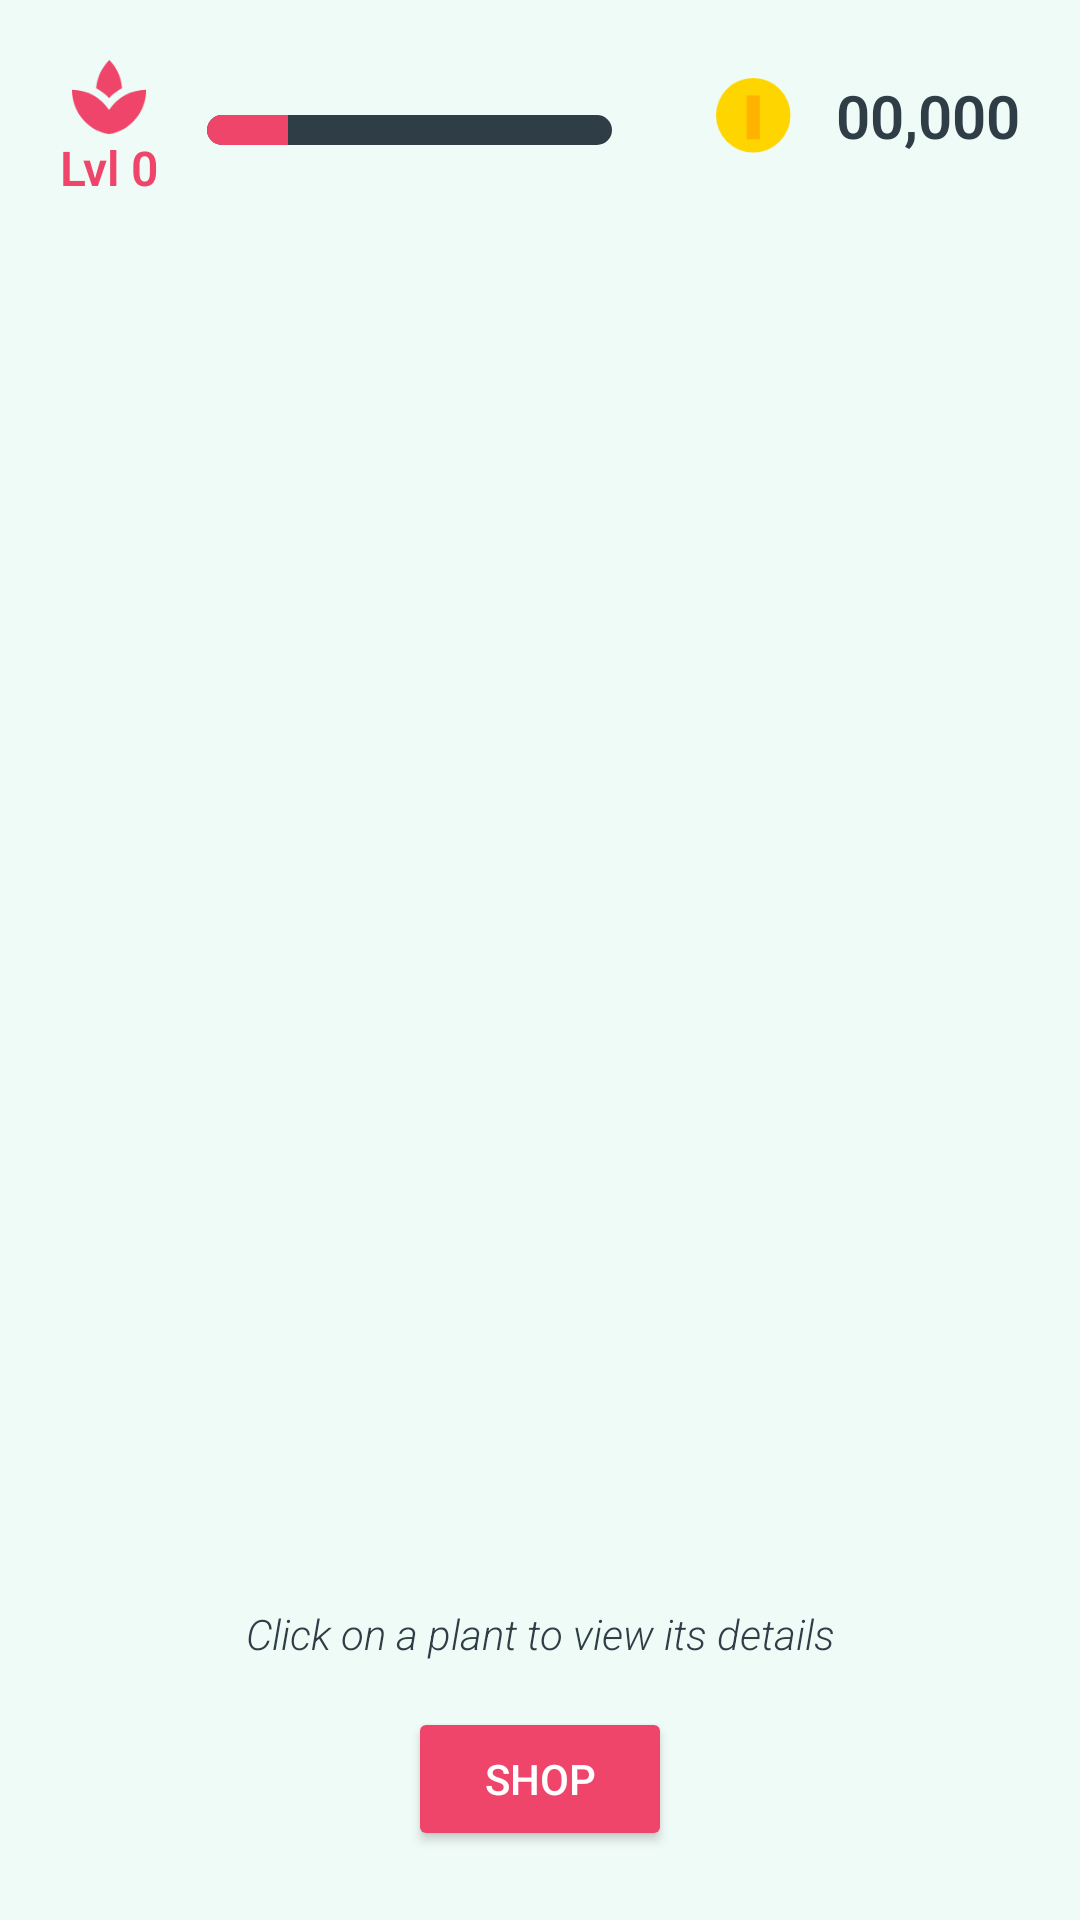

Screen size 1080w x 1920h. Icon name, then its center in pixels as (x=x, y=y):
coin: (x=753, y=115)
